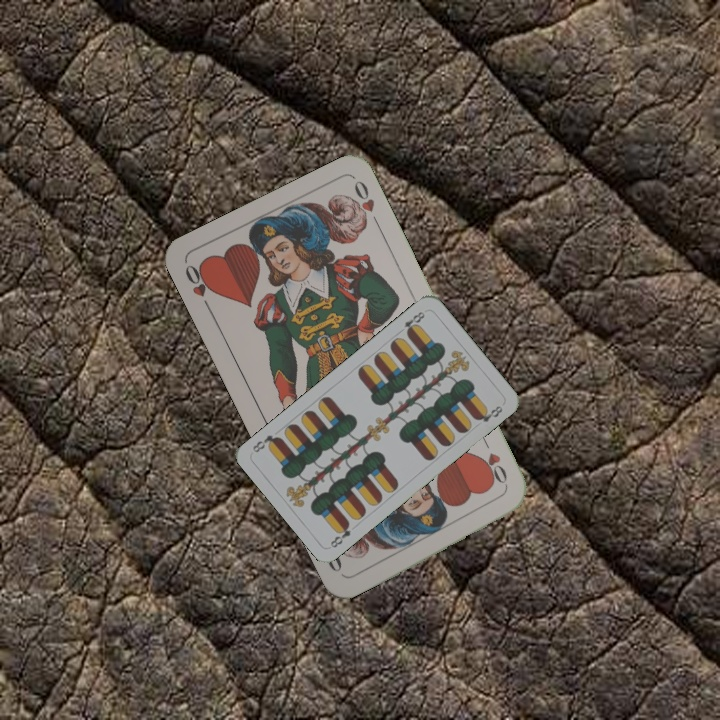E8: (394, 307, 428, 337), (326, 518, 353, 551)
HO: (475, 436, 511, 493), (180, 260, 216, 315)
